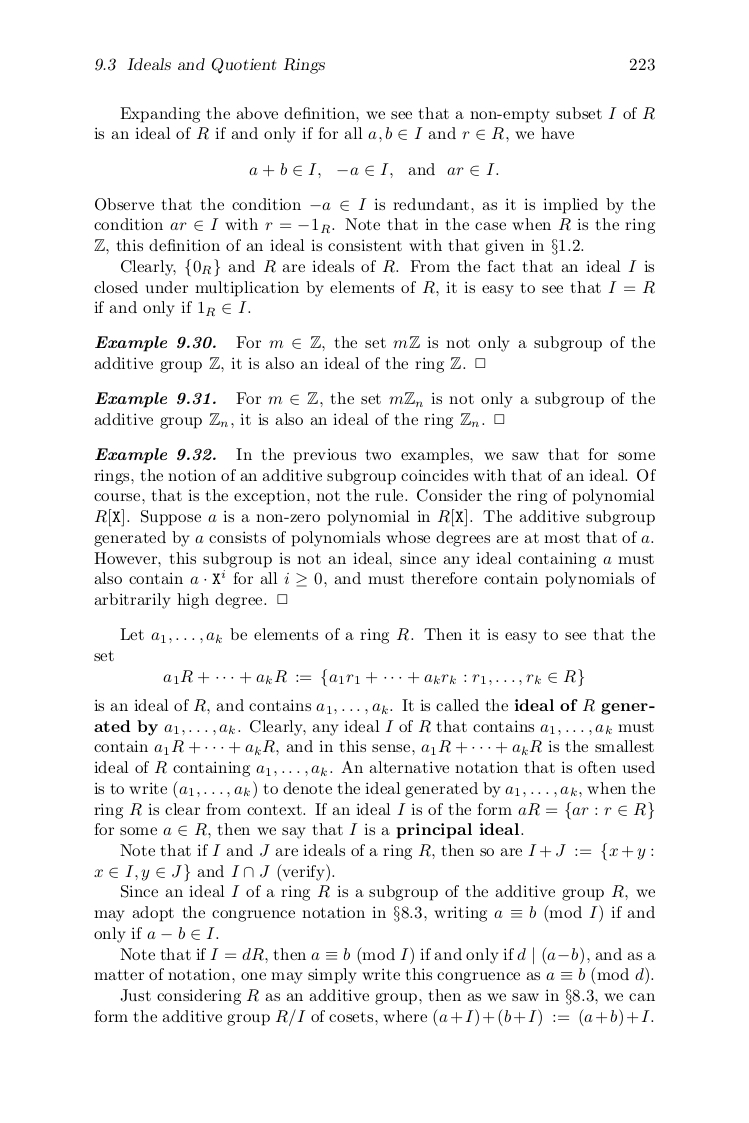formula: (163, 668, 583, 687), (249, 162, 498, 178)
